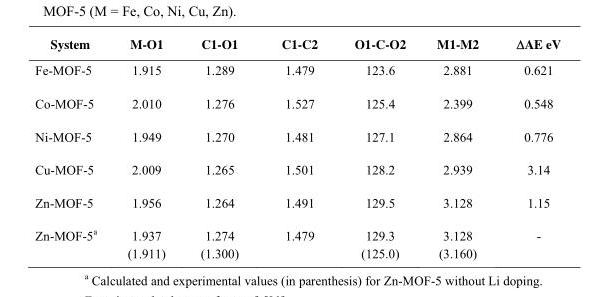table: (34, 34, 560, 260)
table column: (335, 34, 420, 260), (34, 34, 111, 260), (182, 34, 259, 260), (259, 34, 335, 260), (420, 34, 496, 260), (111, 34, 182, 260), (496, 34, 560, 260)
table column header: (34, 34, 560, 57)
table row: (34, 217, 560, 260), (34, 86, 560, 119), (34, 119, 560, 152), (34, 152, 560, 185), (34, 185, 560, 217), (34, 57, 560, 86), (34, 34, 560, 57)
